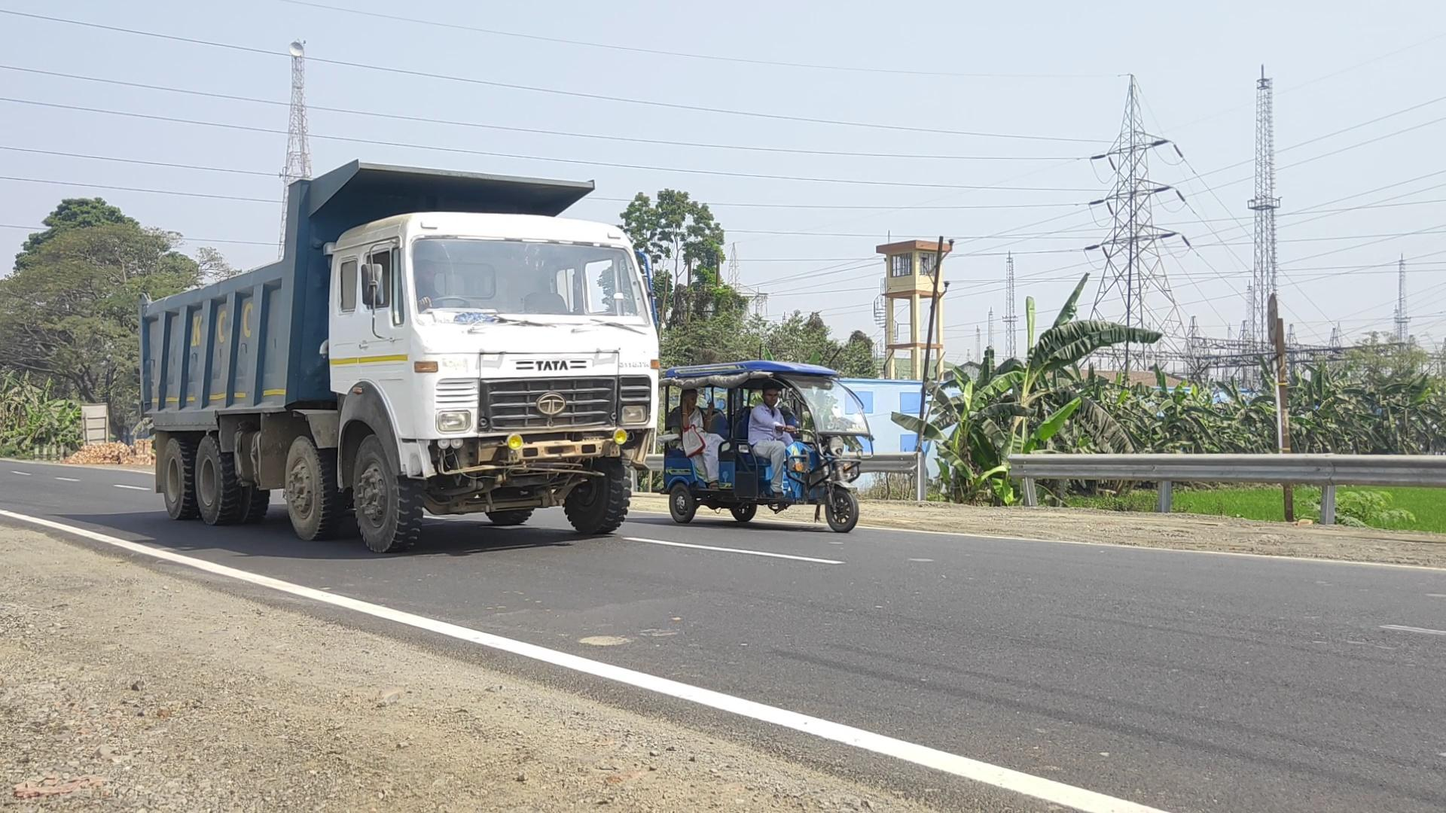Auto: (661, 359, 874, 534)
truck: (137, 159, 660, 554)
